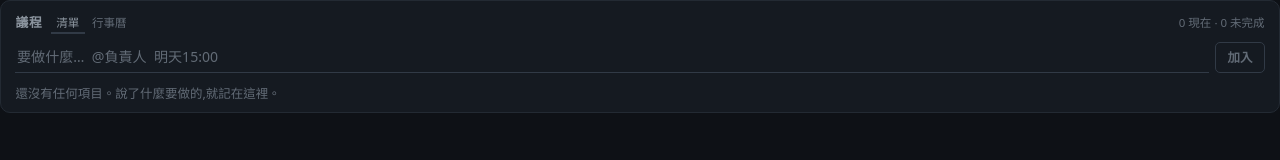
@ mentions › closes on Escape and leaves the line alone
The width and height of the screenshot is (1280, 160).
Type "@al" into the dropdown named "新增項目". click: x=612, y=57
box: [15,42,1209,73]
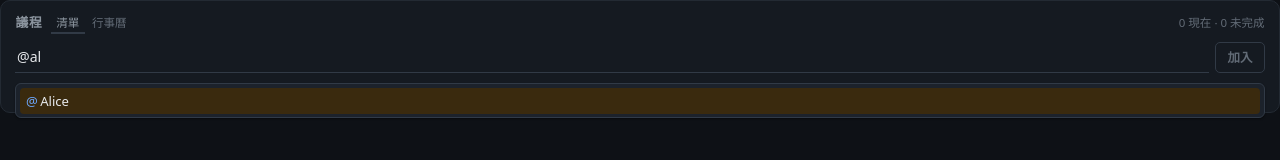
Press Escape in the dropdown named "新增項目", box [15,42,1209,73]
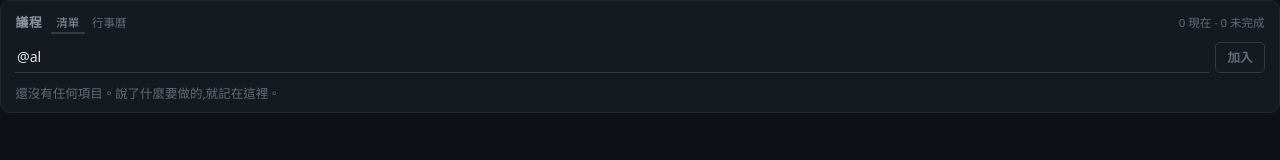
expect the list is gone: met
